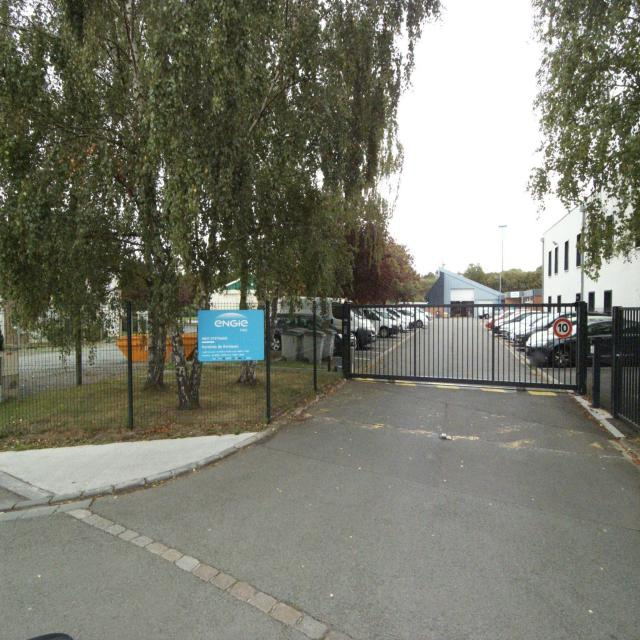car: (271, 311, 351, 362)
